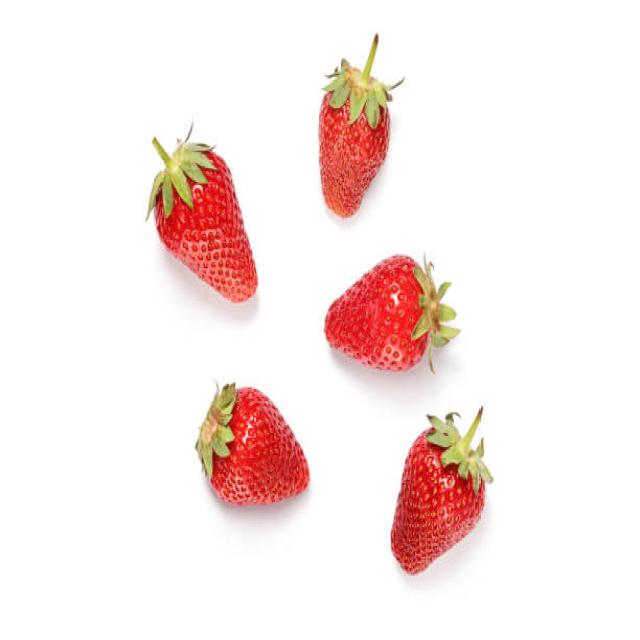Healthy Fruit: (154, 150, 258, 304), (390, 425, 486, 576), (205, 385, 310, 505), (324, 254, 428, 369), (319, 82, 390, 219)
